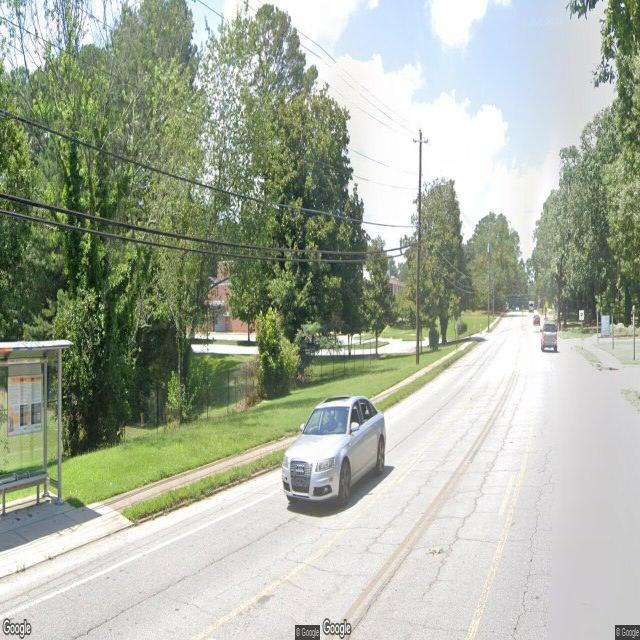seating: (0, 468, 47, 516)
shelter: (1, 338, 74, 534)
